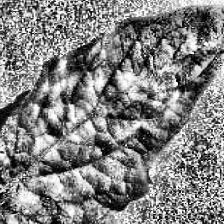leaf mold: (0, 3, 224, 224)
